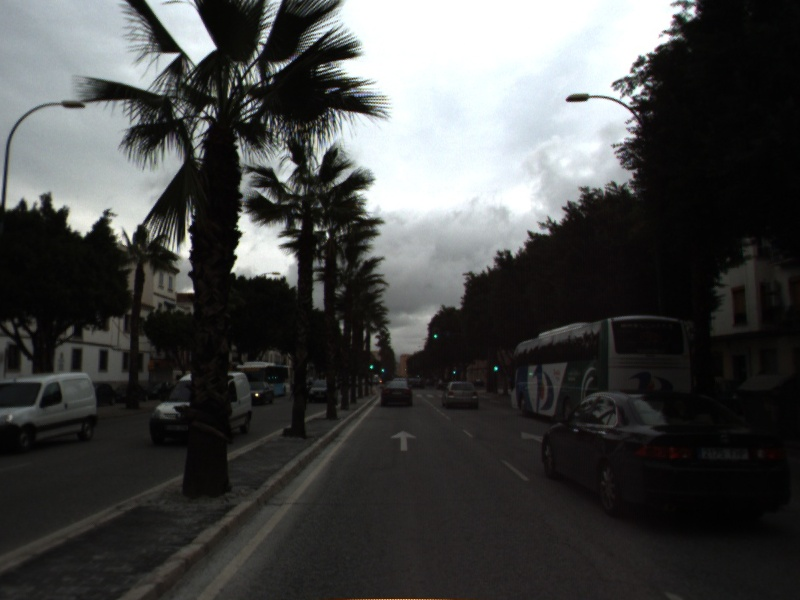STRAIGHT: (388, 428, 419, 453), (518, 428, 544, 443)
